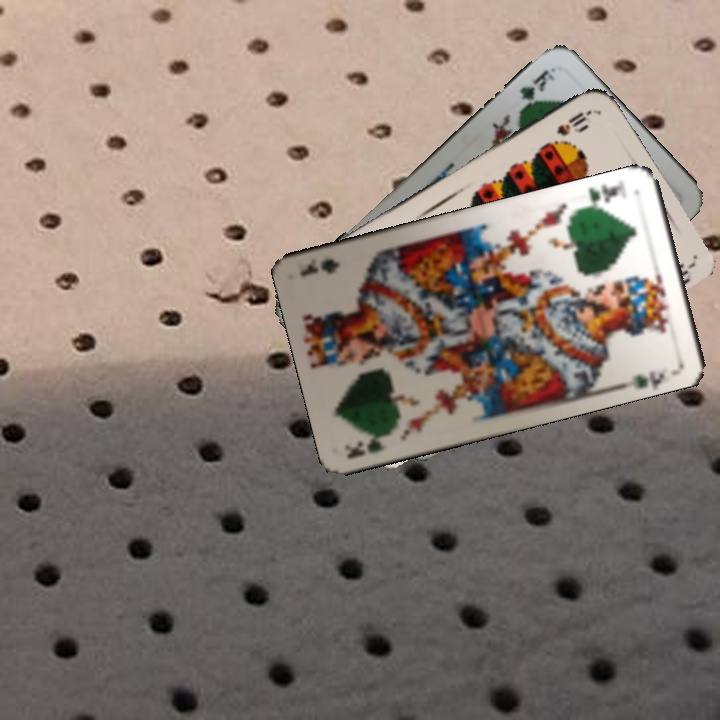GK: (342, 425, 399, 461), (580, 175, 630, 211), (515, 65, 557, 103)
S10: (552, 106, 595, 139)
